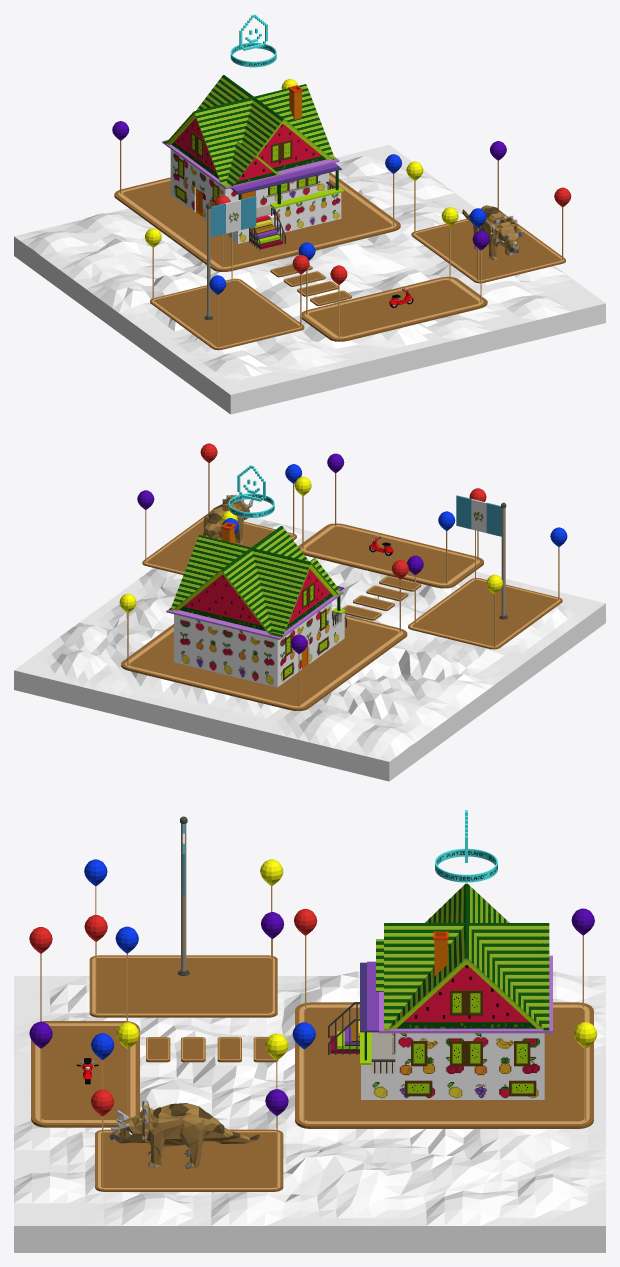
3 renders of one model, top to bottom at view 1: azimuth 30°, elevation 25°; view 2: azimuth 150°, elevation 25°; view 3: azimuth 270°, elevation 25°, orthographic. The views are drawn at different scales.
Visible parts, largest first — view 1: Cube.013, Cube.1063, OBJRANDOM_GUATEMALAN_FLAG, ANIMAL_Triceratops, TYPE_PREMIUM; view 2: Cube.013, Cube.1063, OBJRANDOM_GUATEMALAN_FLAG, ANIMAL_Triceratops, TYPE_PREMIUM; view 3: Cube.013, Cube.1063, ANIMAL_Triceratops, TYPE_PREMIUM, OBJRANDOM_GUATEMALAN_FLAG.
Part boxes in pixels (x1,y1,x2,y2): Cube.013: (14,79,605,414); Cube.1063: (162,75,343,250); OBJRANDOM_GUATEMALAN_FLAG: (204,196,256,320); ANIMAL_Triceratops: (462,205,522,259); TYPE_PREMIUM: (230,14,276,67); Cube.013: (14,443,605,781); Cube.1063: (166,522,346,687); OBJRANDOM_GUATEMALAN_FLAG: (456,495,507,619); ANIMAL_Triceratops: (203,494,253,543); TYPE_PREMIUM: (228,465,274,517); Cube.013: (14,859,605,1252); Cube.1063: (328,883,552,1099); ANIMAL_Triceratops: (109,1099,260,1168); TYPE_PREMIUM: (435,810,497,882); OBJRANDOM_GUATEMALAN_FLAG: (177,816,189,975).
Bounding box in the file's own units: 4000 × 2459 × 4000.
40 materials, 4 textured.
